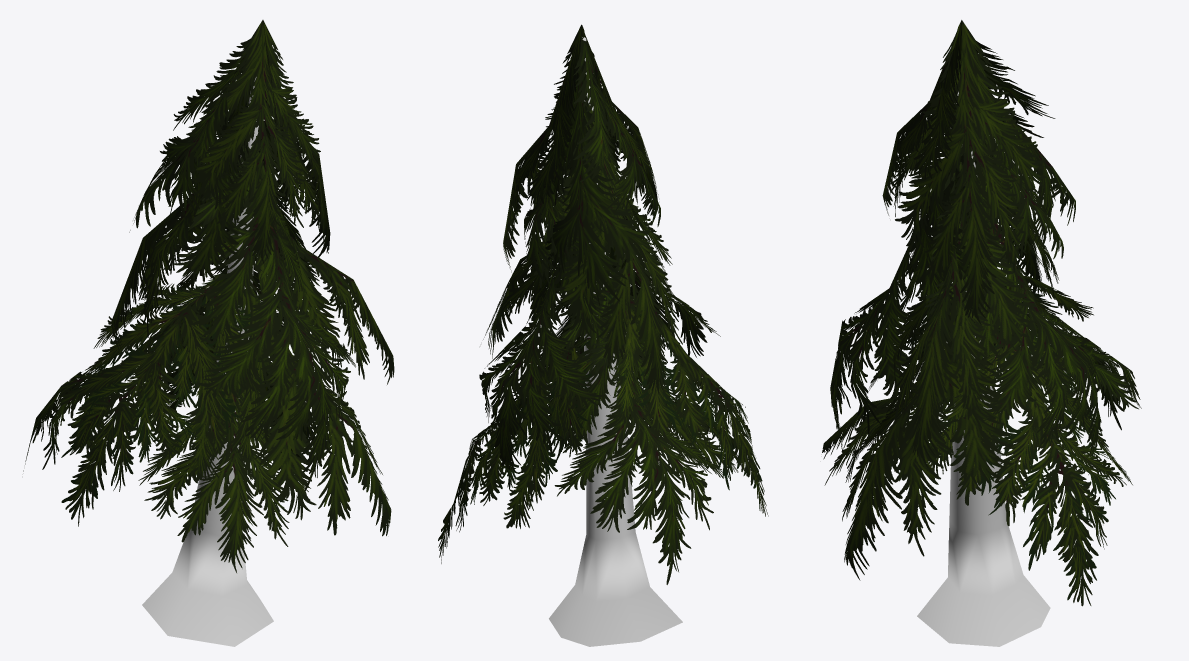
The model's file is spruce_05.fbx.
The picture shows the model from 3 angles, left to right: view 1: azimuth 30°, elevation 25°; view 2: azimuth 150°, elevation 25°; view 3: azimuth 270°, elevation 25°; orthographic projection. The views are drawn at different scales.
Parts seen in each view (by area): view 1: Spruce_5_LOD0; view 2: Spruce_5_LOD0; view 3: Spruce_5_LOD0.
Part boxes in pixels (left/top/right/bottom): Spruce_5_LOD0: left=23, top=20, right=394, bottom=646; Spruce_5_LOD0: left=438, top=24, right=768, bottom=646; Spruce_5_LOD0: left=822, top=20, right=1141, bottom=646.
Size of what is drawn, in the model's own units: 2.54 by 4.46 by 2.35.
